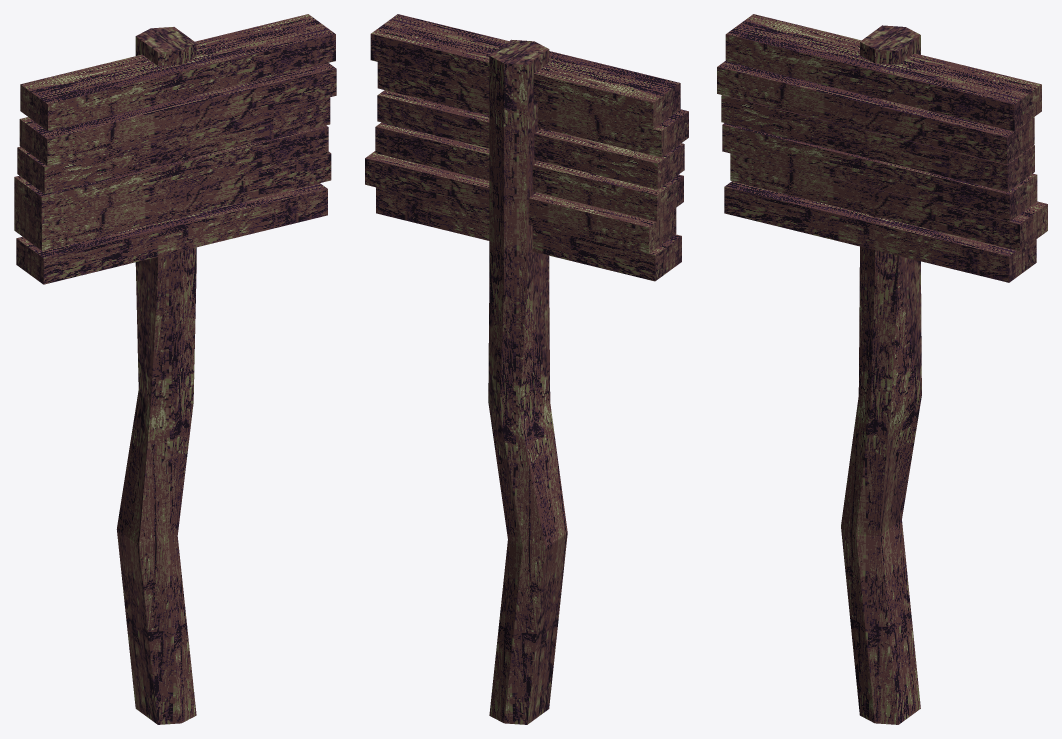
File: PlacaNumero1.fbx
3 renders of one model, left to right at view 1: azimuth 30°, elevation 25°; view 2: azimuth 150°, elevation 25°; view 3: azimuth 330°, elevation 25°, orthographic. The views are drawn at different scales.
Visible parts, largest first — view 1: Cube.001, Cube; view 2: Cube.001, Cube; view 3: Cube.001, Cube.
Part boxes in pixels (bbox=[...]): Cube.001: bbox=[14, 14, 336, 284]; Cube: bbox=[116, 27, 196, 724]; Cube.001: bbox=[365, 14, 688, 281]; Cube: bbox=[488, 39, 567, 724]; Cube.001: bbox=[717, 14, 1047, 282]; Cube: bbox=[841, 25, 921, 724].
Bounding box in the file's own units: 70.76 × 155 × 17.77.
1 material, 1 textured.
